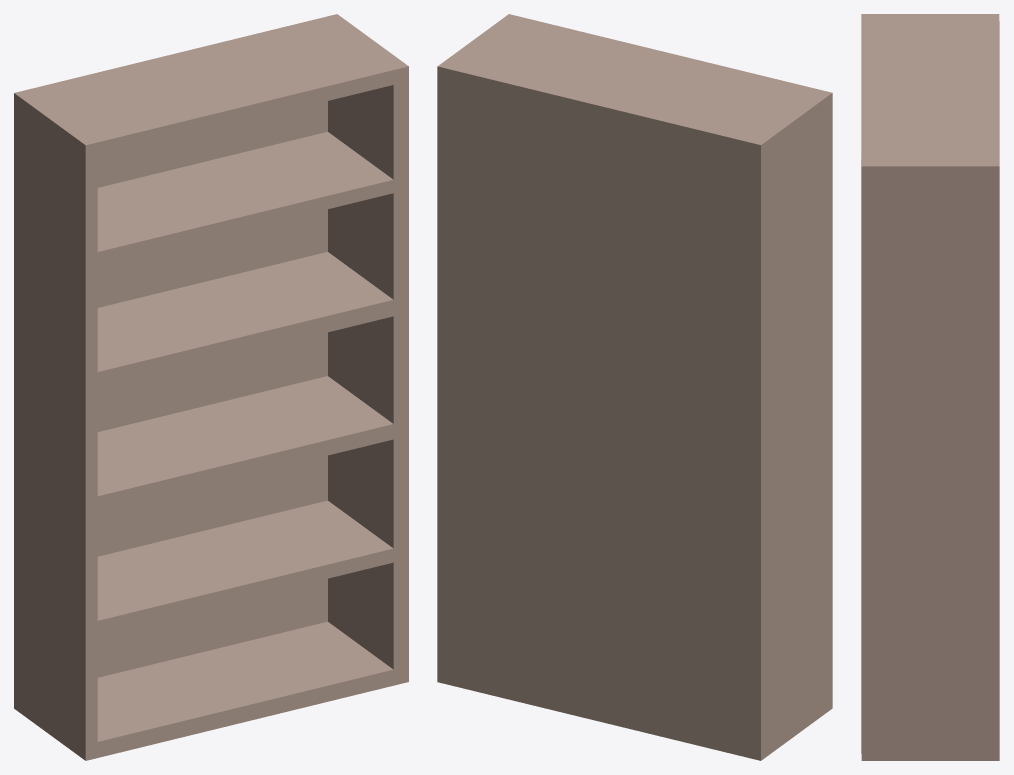
Rendered from Rak buku.fbx.
3 views of the same model, side by side, from view 1: azimuth 30°, elevation 25°; view 2: azimuth 150°, elevation 25°; view 3: azimuth 270°, elevation 25° (orthographic). The views are drawn at different scales.
Parts seen in each view (by area): view 1: Cube.200; view 2: Cube.200; view 3: Cube.200.
Part boxes in pixels (x1,y1,x2,y2): Cube.200: (14,14,408,760); Cube.200: (437,14,832,760); Cube.200: (861,14,999,760).
Bounding box in the file's own units: 130 × 237 × 50.08.
